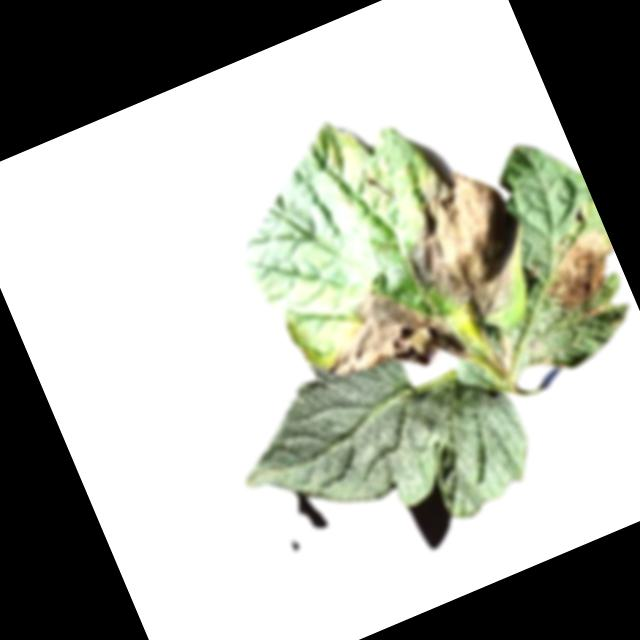Late_blight: (373, 145, 549, 343), (304, 263, 471, 409), (525, 221, 630, 321), (488, 329, 523, 375), (574, 297, 615, 323)
